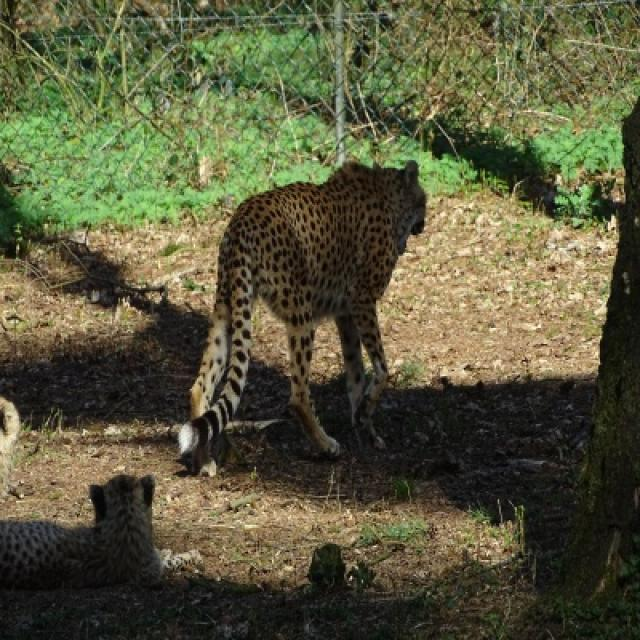Cheetah: (176, 162, 429, 478)
